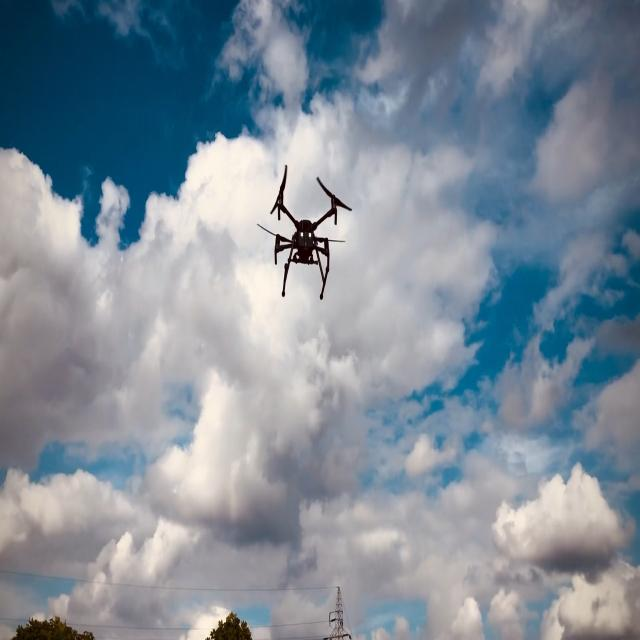drone: (256, 163, 352, 300)
